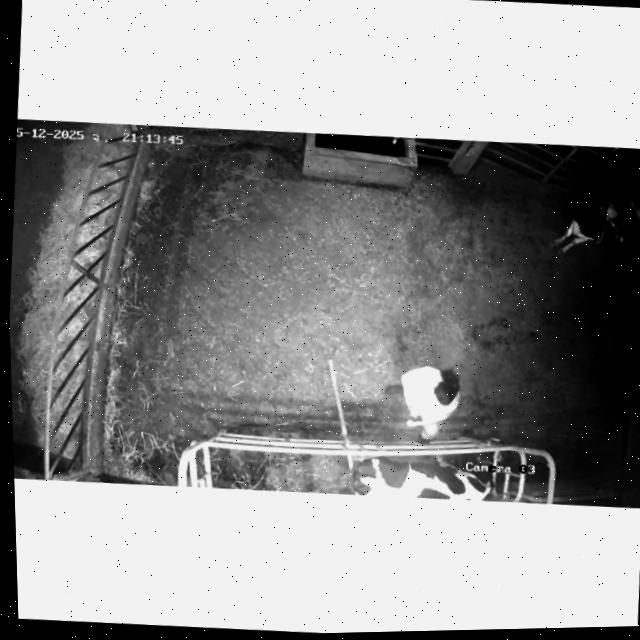stand: (529, 173, 640, 271)
